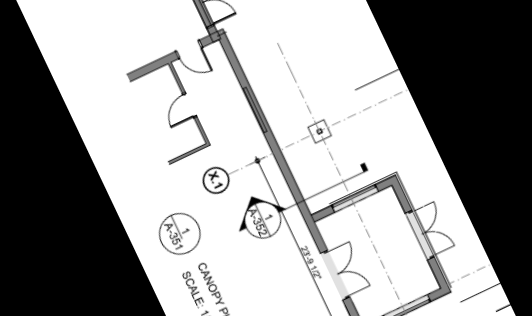door: (326, 181, 381, 217), (156, 91, 198, 133), (178, 45, 214, 83)
double door: (408, 199, 457, 259), (187, 0, 240, 28), (192, 24, 229, 52)
wall: (211, 25, 333, 259), (122, 47, 183, 85), (422, 250, 458, 299), (384, 169, 417, 218), (165, 140, 214, 168), (339, 294, 397, 316), (370, 168, 404, 198), (307, 200, 338, 228), (166, 60, 188, 97), (426, 281, 457, 307), (192, 114, 214, 149), (361, 309, 391, 316)
window: (322, 238, 373, 300), (235, 81, 275, 143), (381, 291, 434, 316)
